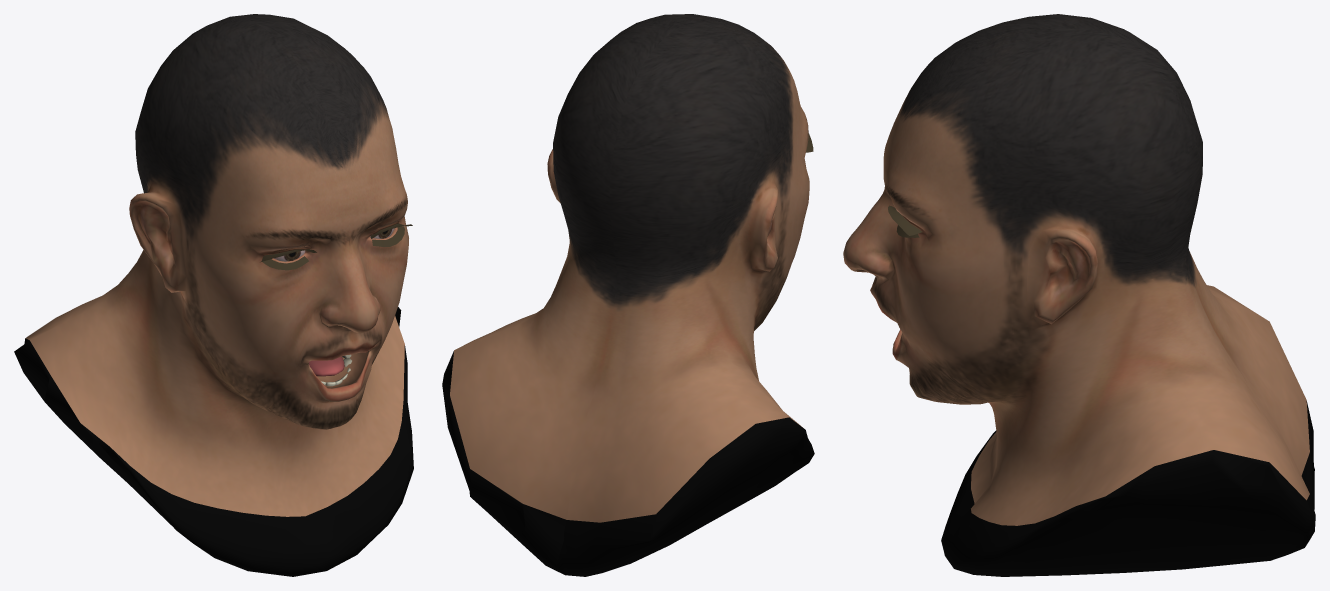
Rendered from Head_aw.obj.
The picture shows the model from 3 angles, left to right: view 1: azimuth 30°, elevation 25°; view 2: azimuth 150°, elevation 25°; view 3: azimuth 270°, elevation 25°; orthographic projection. The views are drawn at different scales.
Parts seen in each view (by area): view 1: BodyParts; view 2: BodyParts; view 3: BodyParts.
Part boxes in pixels (x1=…): BodyParts: x1=14, y1=14, x2=413, y2=576; BodyParts: x1=442, y1=14, x2=814, y2=576; BodyParts: x1=843, y1=14, x2=1315, y2=576.
Size of the model in its own units: 27.78 by 38.23 by 30.66.
2 materials, 2 textured.
